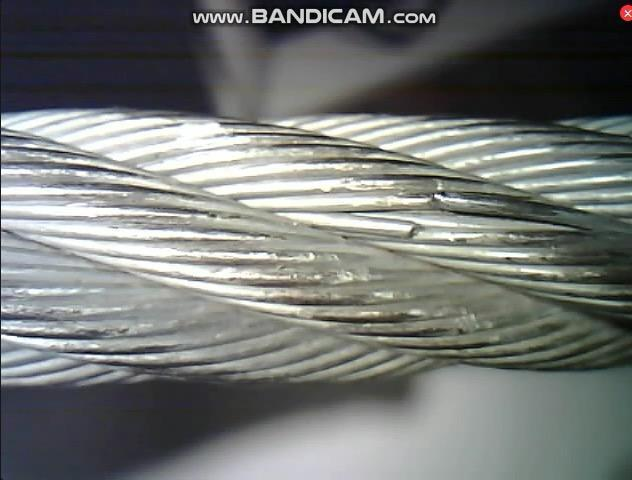break: (387, 188, 468, 247)
